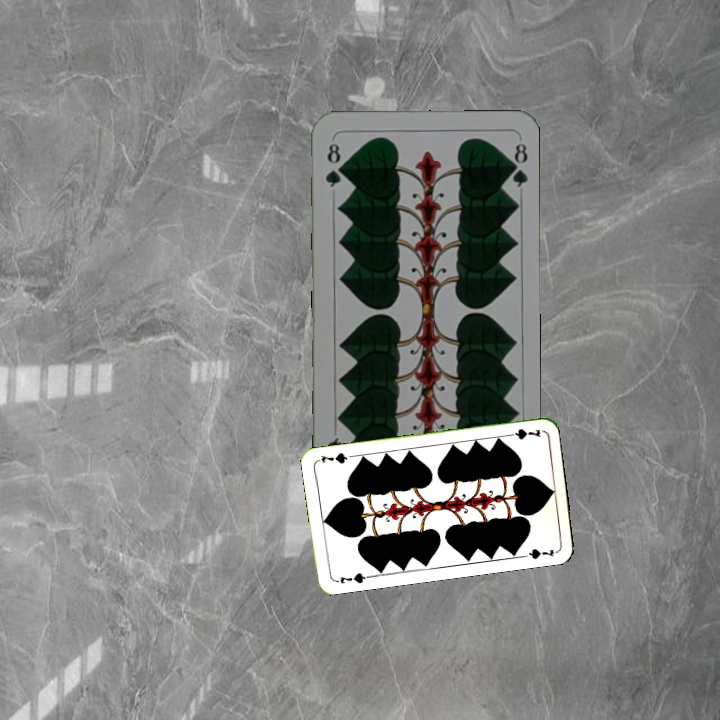G7: (331, 568, 372, 586), (502, 425, 543, 442)
G8: (321, 139, 345, 190)
